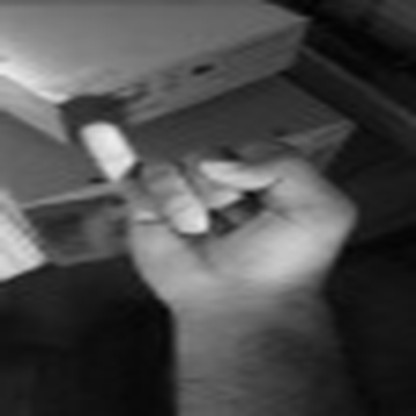i: (78, 112, 364, 309)
